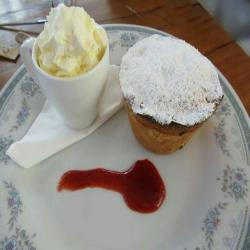apple_pie: (117, 31, 222, 165)
chantilly: (30, 7, 108, 83)
